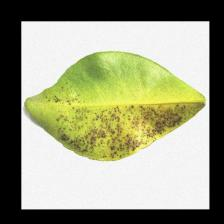canker: (68, 114, 168, 147)
